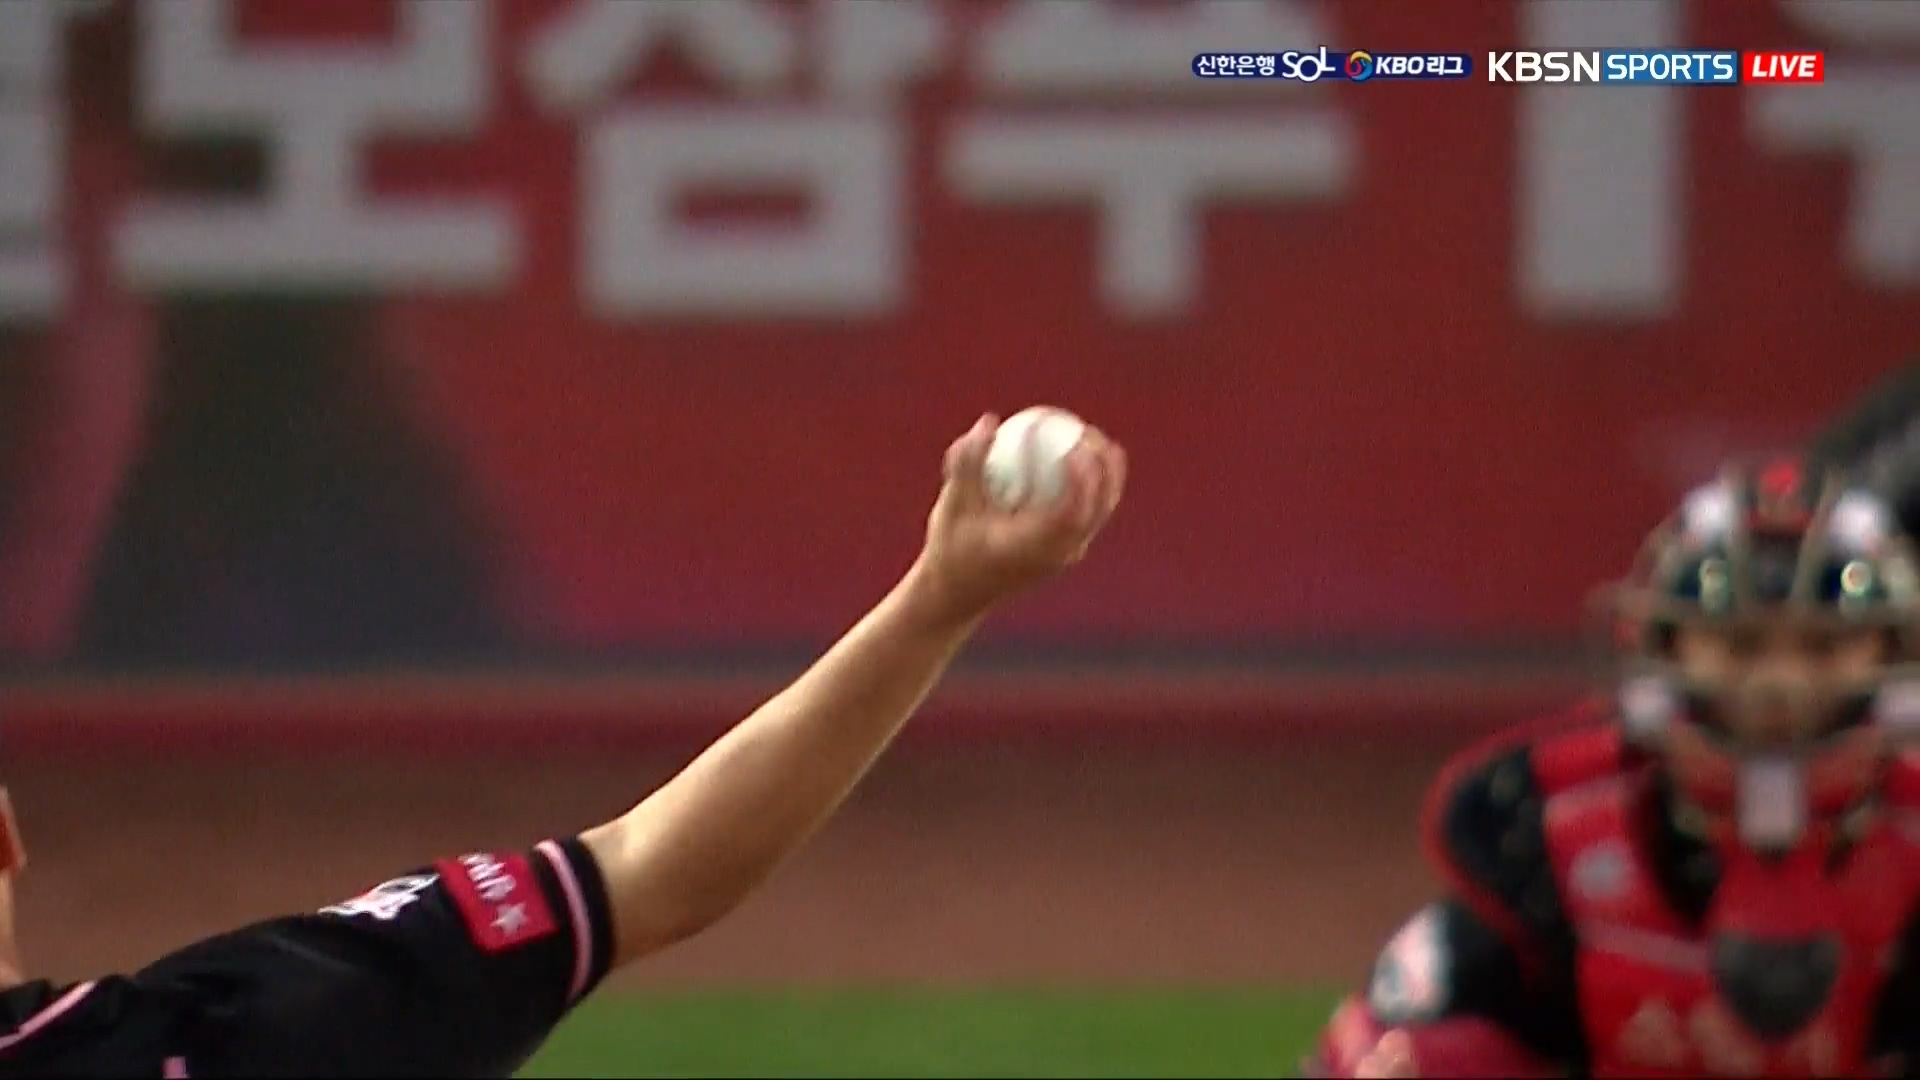zoomin_hand: (621, 375, 1134, 934)
